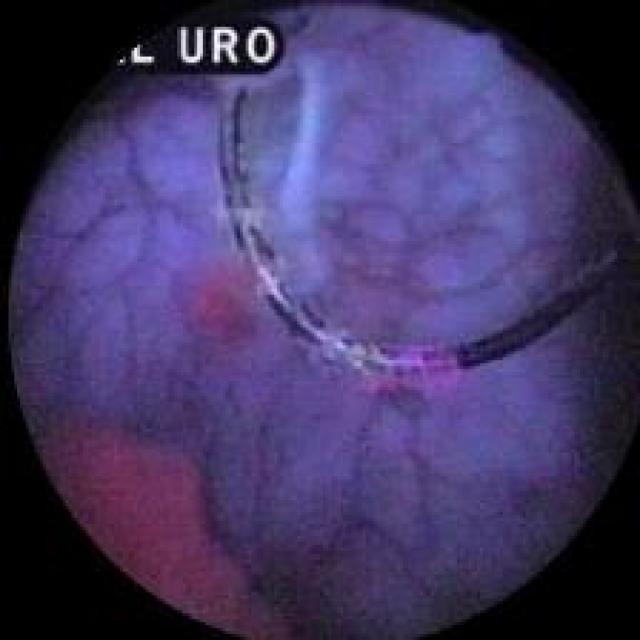color misalignment: (114, 22, 277, 71)
instrument: (216, 74, 634, 370)
